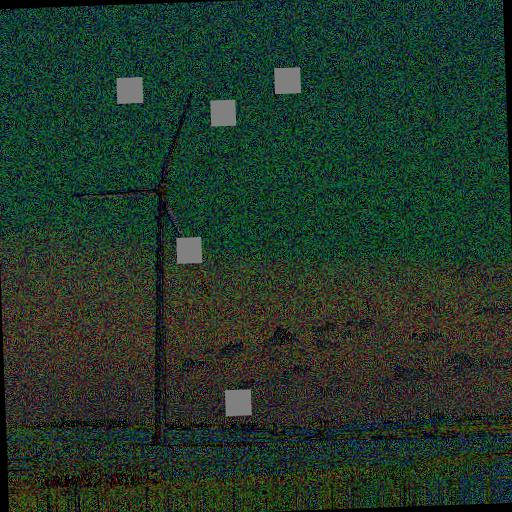wind turbine: (70, 91, 198, 440)
